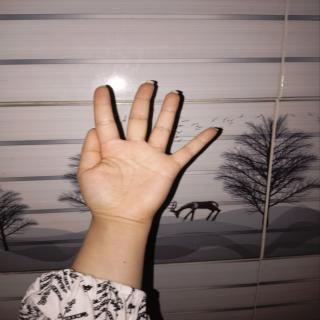SHEEN: (62, 76, 226, 218)
